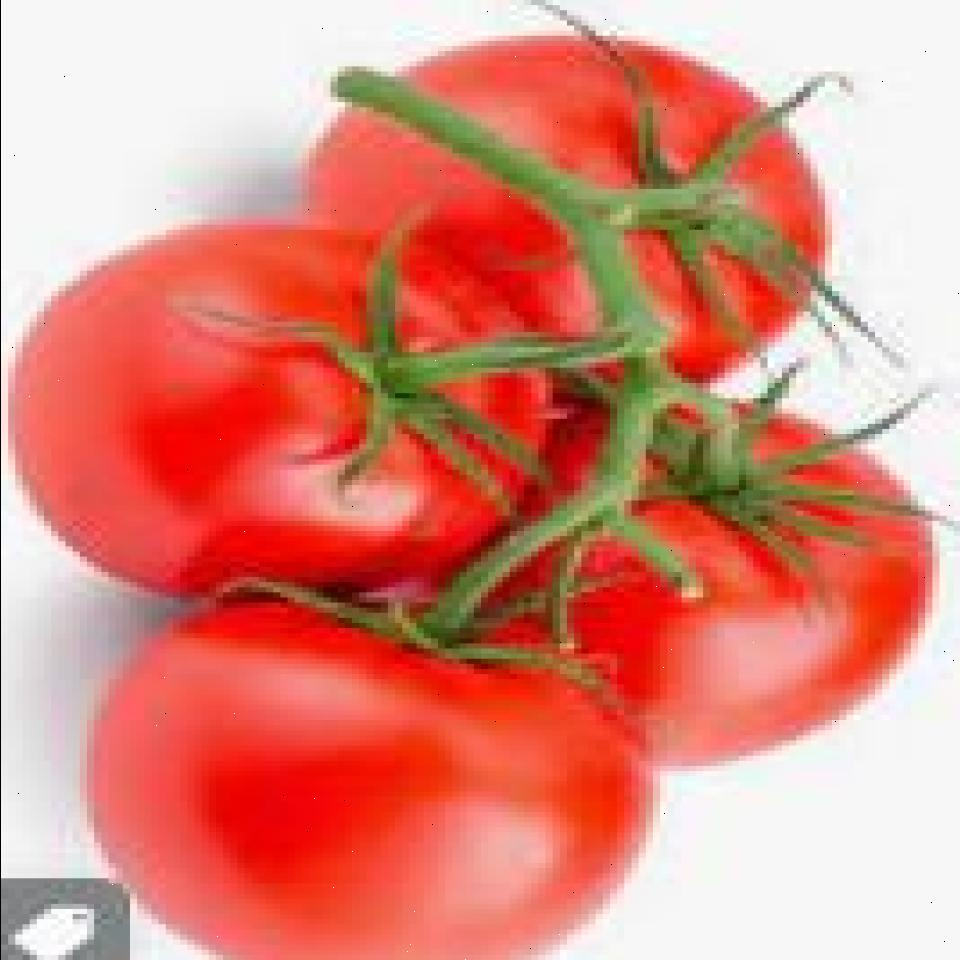Healthy: (25, 214, 597, 620), (91, 600, 731, 957), (289, 23, 889, 380), (490, 364, 924, 774)
